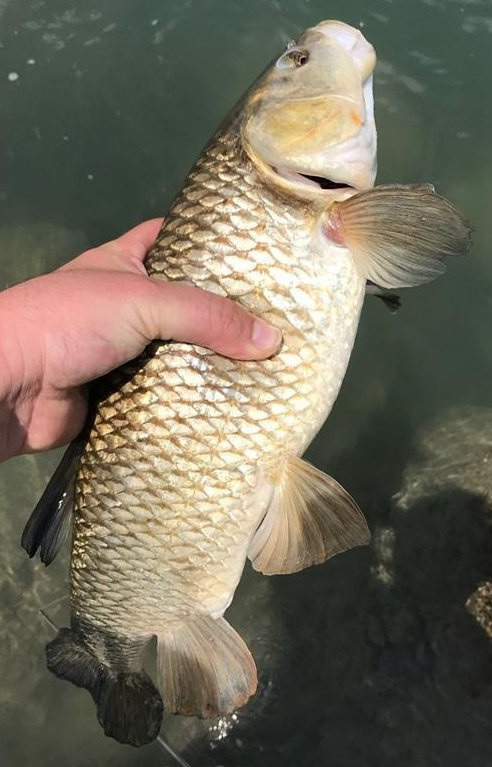Leuciscus cephalus: (20, 20, 472, 747)
